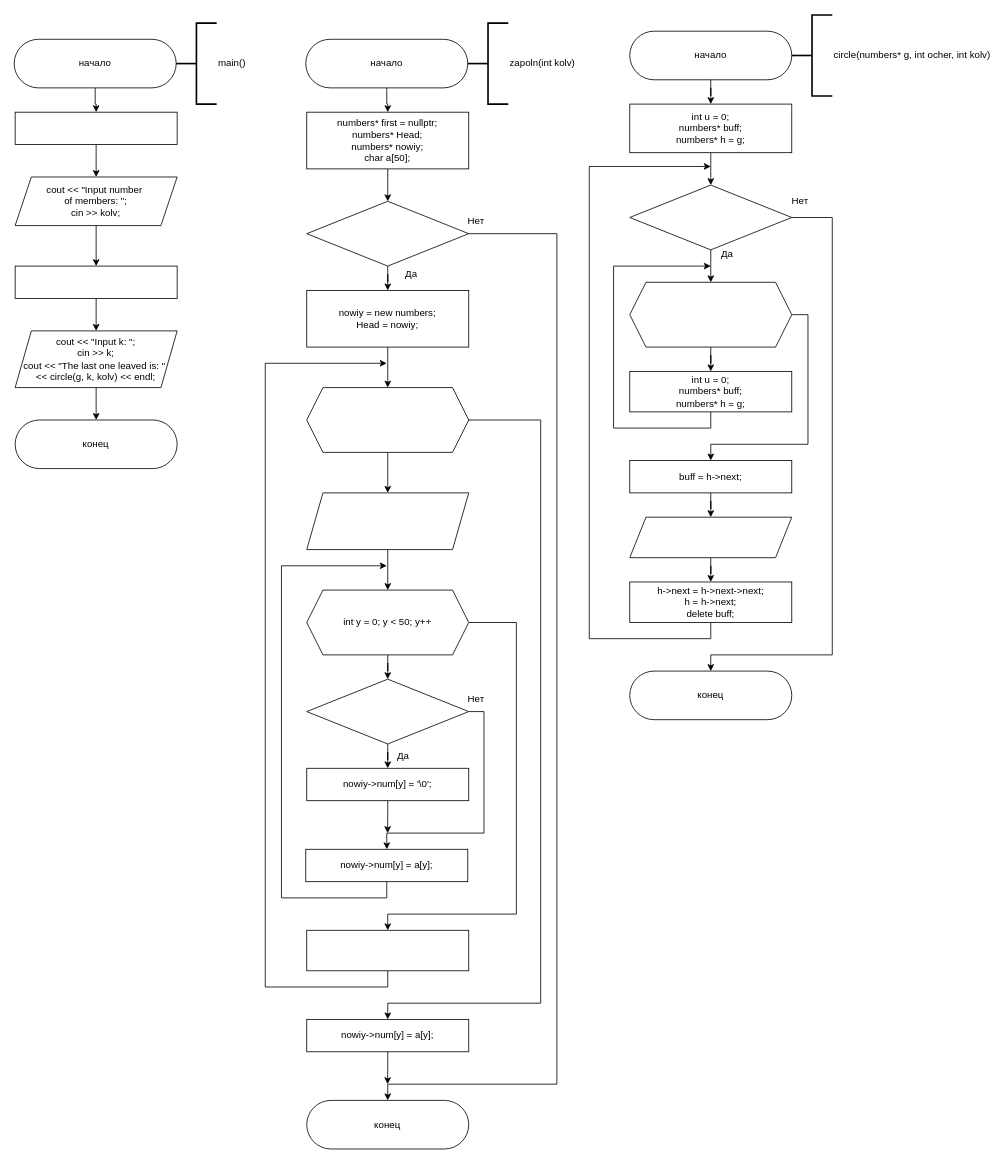
Some shapes in this 1004 by 1163 pixel diagram are drawn without their labels. Here are the shapes that lost their labels. From the top down, the box of each, then its label:
(14, 111, 177, 145): int kolv; int k;
(306, 200, 469, 266): kolv > 0
(629, 184, 792, 250): h->next != h
(14, 265, 177, 298): numbers* g = zapoln(kolv);
(629, 281, 792, 347): int i = 0; i < ocher - 2; i++
(306, 387, 469, 452): int i = 0; i < kolv; i++
(306, 492, 469, 550): cout << "Input a memer: "; cin.get(); cin.getline(a, 50);
(629, 516, 792, 558): cout << "Deleted " << buff->num << endl;
(306, 678, 469, 744): a[y] == '\0'
(306, 929, 469, 971): first = nowiy; nowiy = new numbers; first->next = nowiy;
